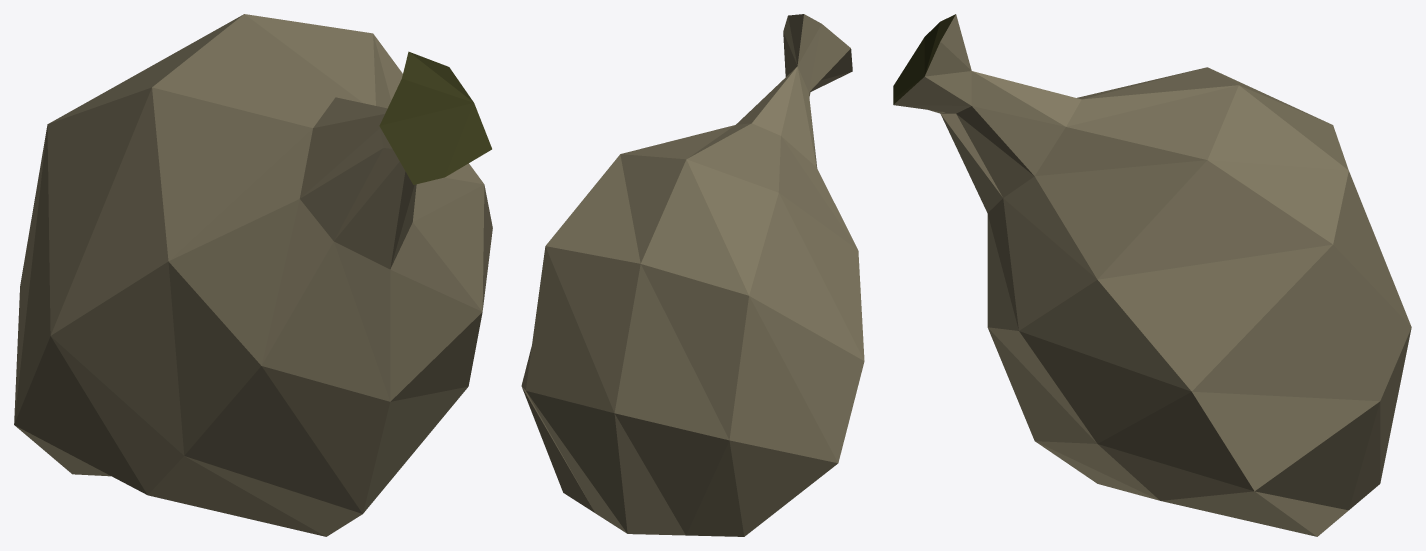
The model's file is inv_waterskin_4.obj.
The picture shows the model from 3 angles, left to right: view 1: azimuth 30°, elevation 25°; view 2: azimuth 150°, elevation 25°; view 3: azimuth 270°, elevation 25°; orthographic projection. The views are drawn at different scales.
Bounding box in the file's own units: 0.2188 × 0.2578 × 0.2578.
